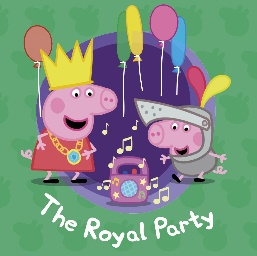Peppa: (22, 43, 119, 187)
